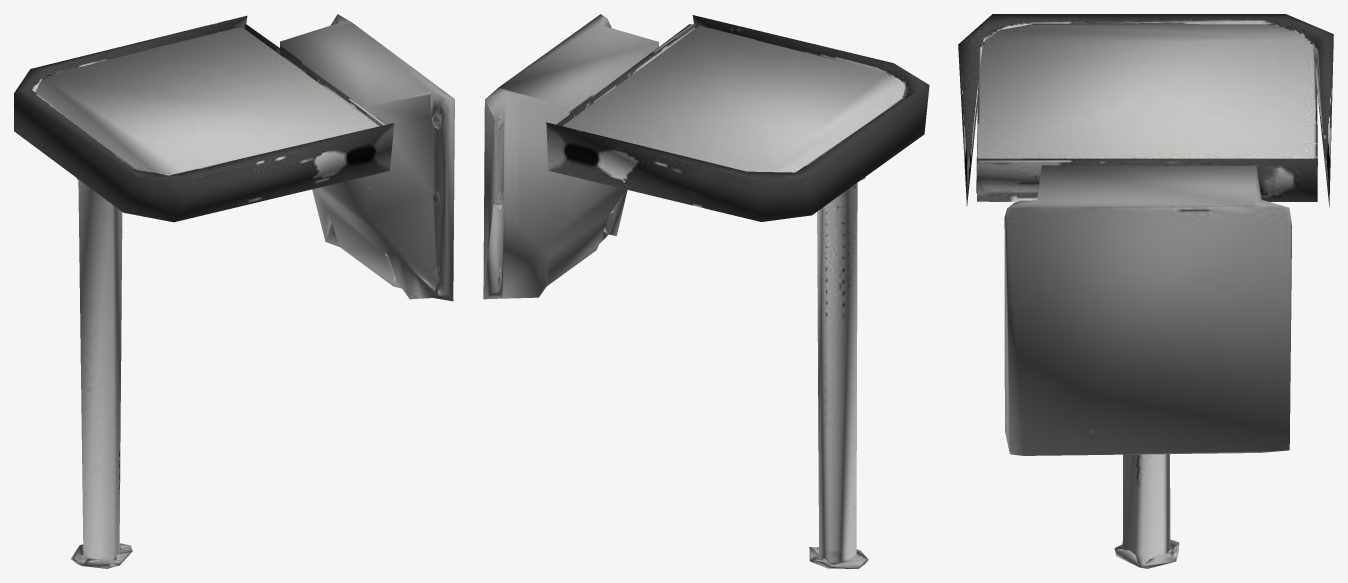
File: poyta_m.glb
The picture shows the model from 3 angles, left to right: view 1: azimuth 30°, elevation 25°; view 2: azimuth 150°, elevation 25°; view 3: azimuth 270°, elevation 25°; orthographic projection. The views are drawn at different scales.
Parts seen in each view (by area): view 1: poyta; view 2: poyta; view 3: poyta.
Part boxes in pixels (x1=…): poyta: x1=14, y1=14, x2=454, y2=568; poyta: x1=483, y1=14, x2=929, y2=568; poyta: x1=958, y1=14, x2=1333, y2=568.
Bounding box in the file's own units: 0.5937 × 0.7533 × 0.486.
1 material, 1 textured.
